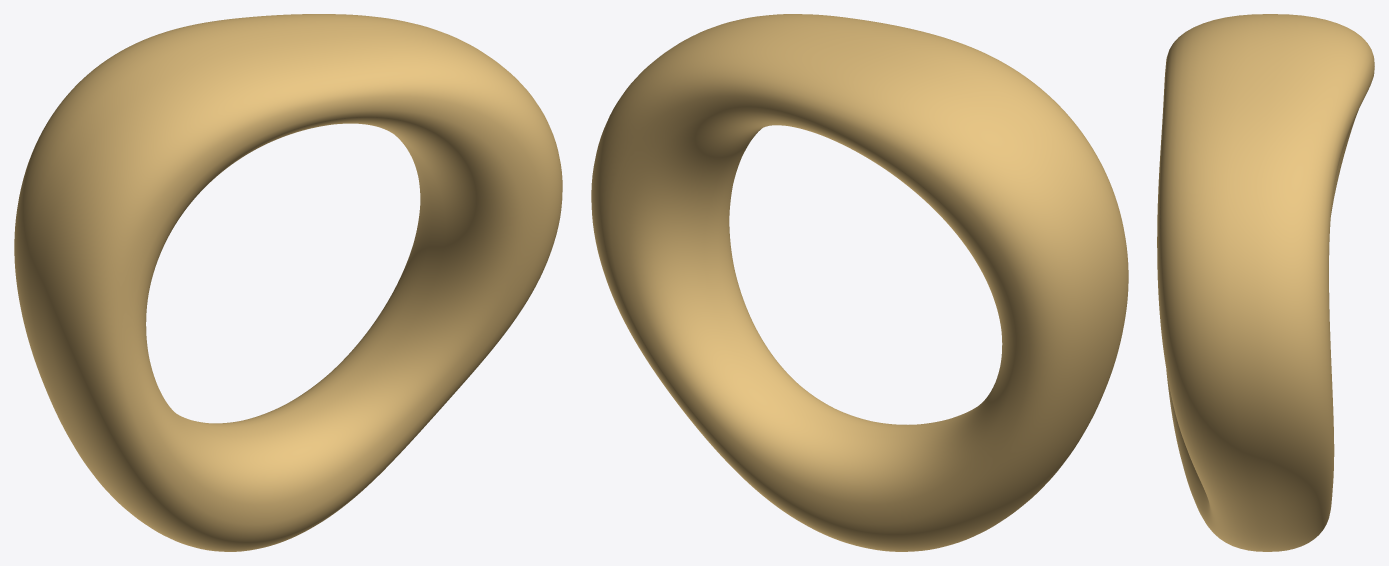
Rendered from solstice-study.glb.
3 renders of one model, left to right at view 1: azimuth 30°, elevation 25°; view 2: azimuth 150°, elevation 25°; view 3: azimuth 270°, elevation 25°, orthographic. The views are drawn at different scales.
Visible parts, largest first — view 1: Solstice_Sculptural_Band; view 2: Solstice_Sculptural_Band; view 3: Solstice_Sculptural_Band.
Boxes of the visible parts, x1,y1,x2,y2 form: Solstice_Sculptural_Band: (14, 14, 562, 551); Solstice_Sculptural_Band: (591, 14, 1128, 551); Solstice_Sculptural_Band: (1157, 14, 1374, 551).
Bounding box in the file's own units: 3.12 × 2.93 × 1.2.
